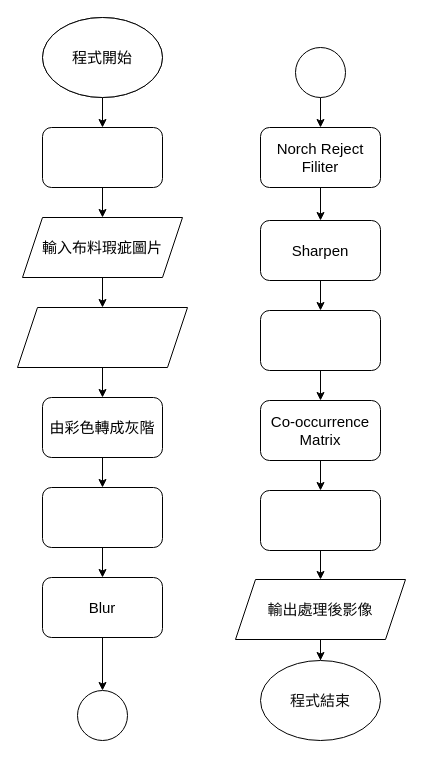
The diagram is 423 pixels wide and 758 high, and some of its shapes have lost their labels. Each missing label, with the box of its shape:
Beta_Correction: (42, 486, 162, 548)
Fast Nl Means Denoising: (260, 310, 380, 370)
Median_Filter: (260, 490, 380, 550)
讀檔: (42, 126, 162, 188)
輸入30筆完整布料 圖片資料來使用: (16, 306, 188, 368)
